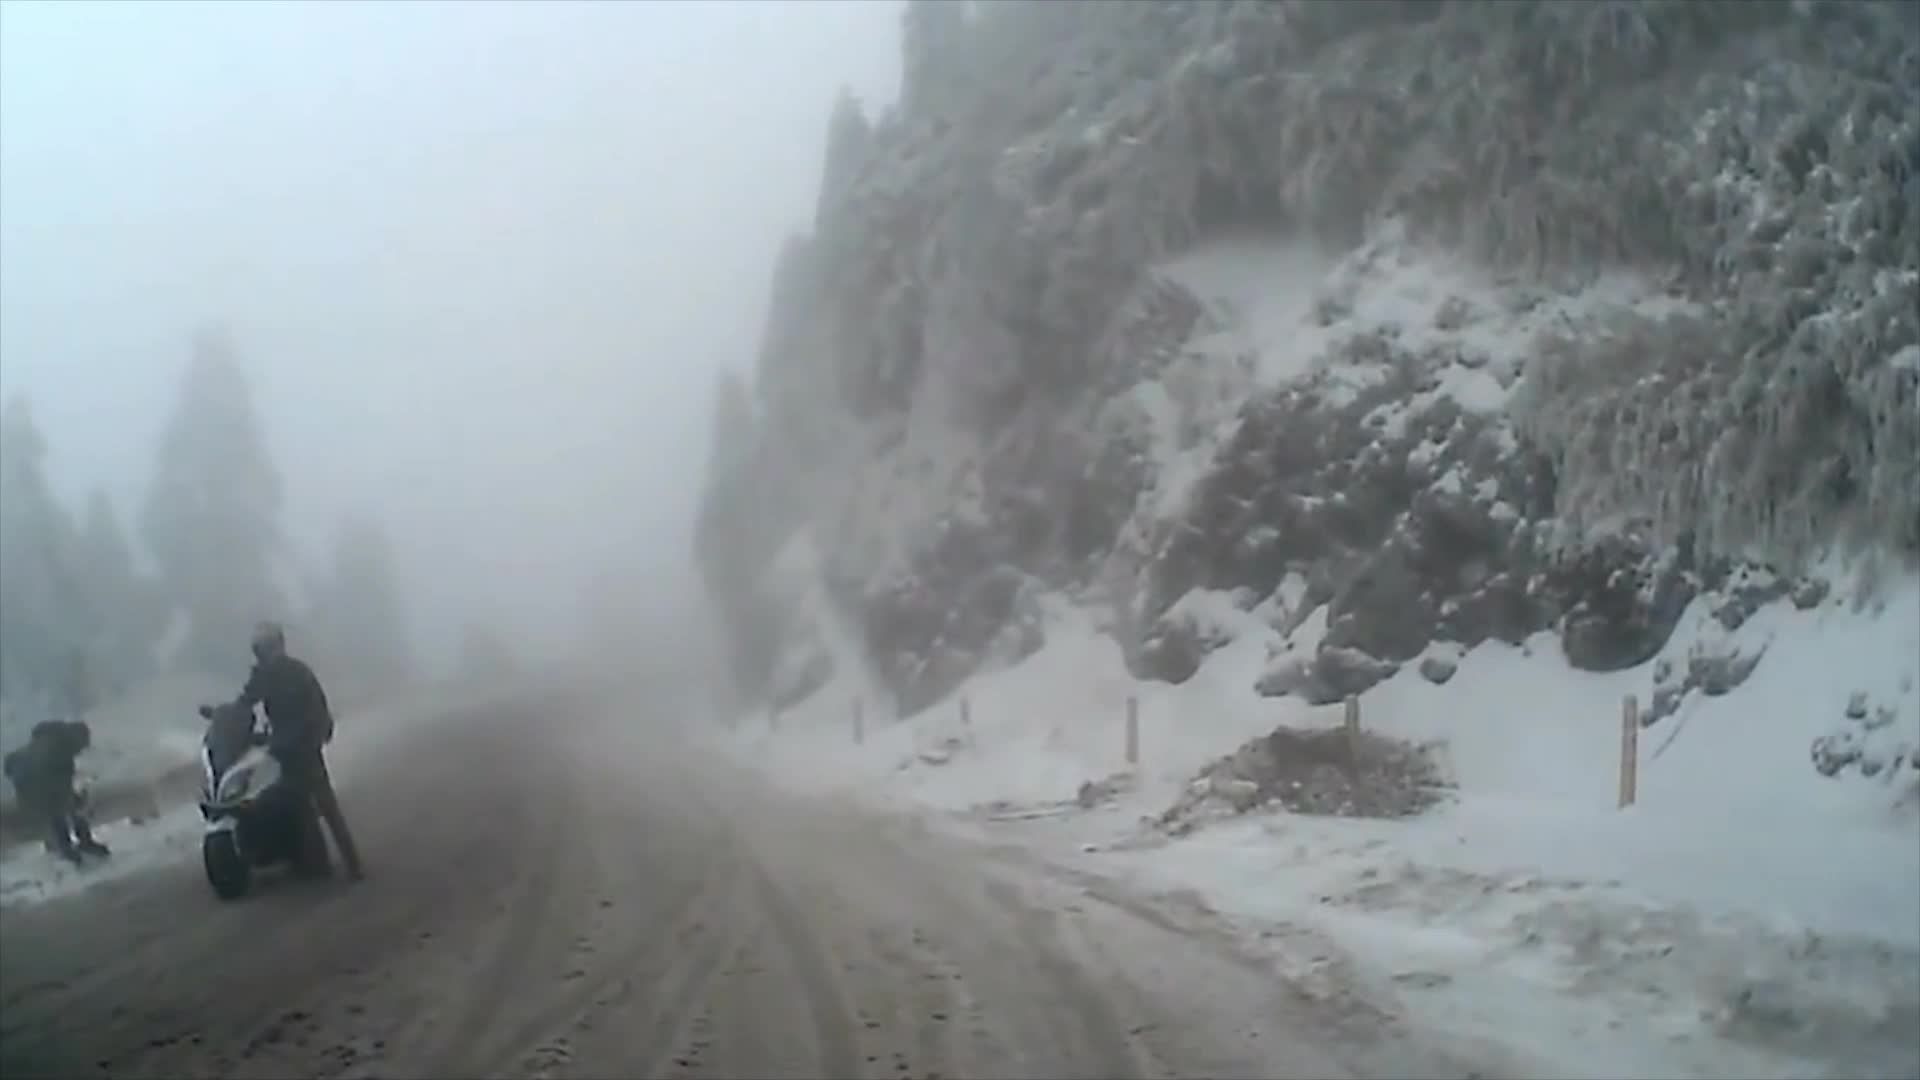pedestrian: (205, 607, 361, 881), (1, 719, 112, 866)
